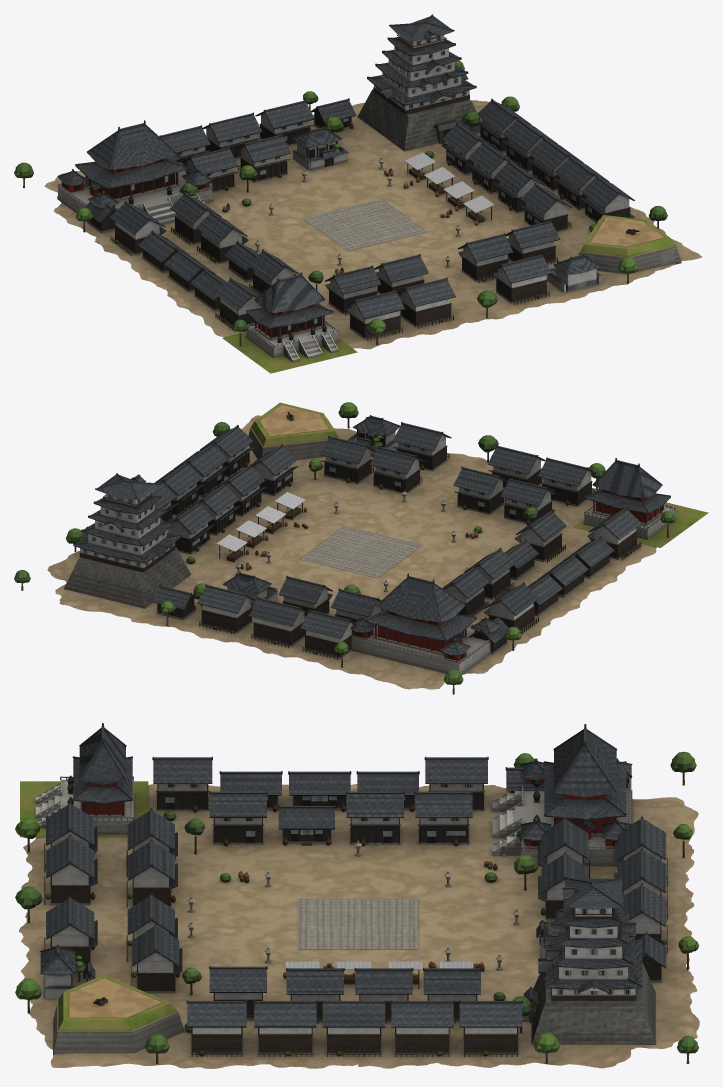
Rendered from gunpowder-town-big-a-japan.glb.
3 renders of one model, top to bottom at view 1: azimuth 30°, elevation 25°; view 2: azimuth 150°, elevation 25°; view 3: azimuth 270°, elevation 25°, orthographic. The views are drawn at different scales.
Parts seen in each view (by area): view 1: LOD0; view 2: LOD0; view 3: LOD0.
Part boxes in pixels (box(x1,y1,x2,y2)): LOD0: box(14, 14, 701, 373); LOD0: box(14, 402, 708, 694); LOD0: box(15, 723, 699, 1068).
Size of what is drawn, in the model's own units: 8.05 by 1.8 by 8.12.
Materials: 3 (3 with a texture image).
